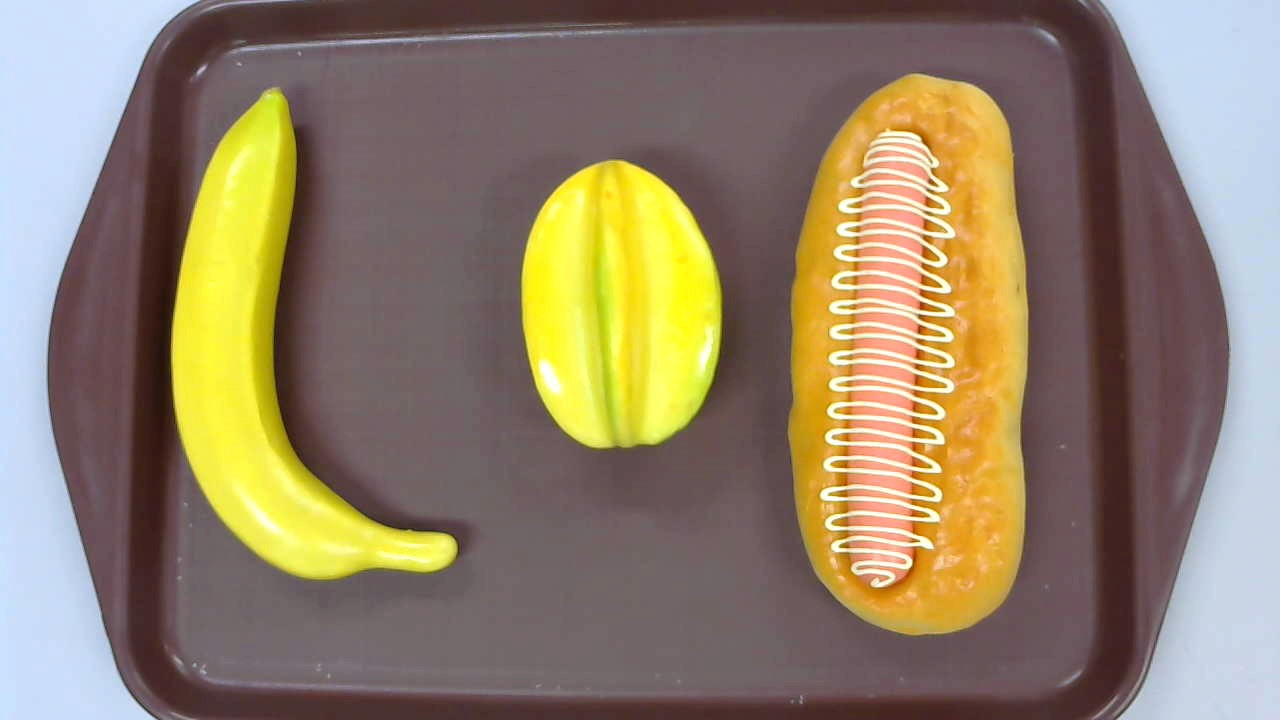banana: (170, 84, 458, 581)
hot dog: (785, 72, 1029, 635)
star fruit: (520, 160, 722, 450)
